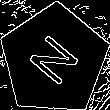N_SE: (23, 28, 85, 91)
